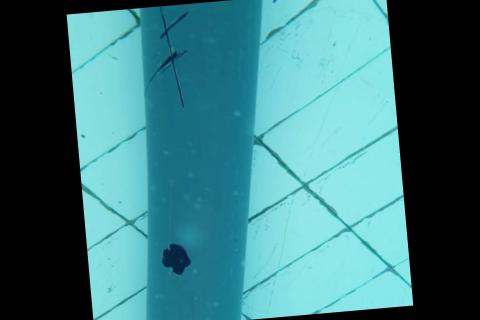kebocoran: (156, 241, 195, 277)
keretakan: (139, 4, 196, 109)
